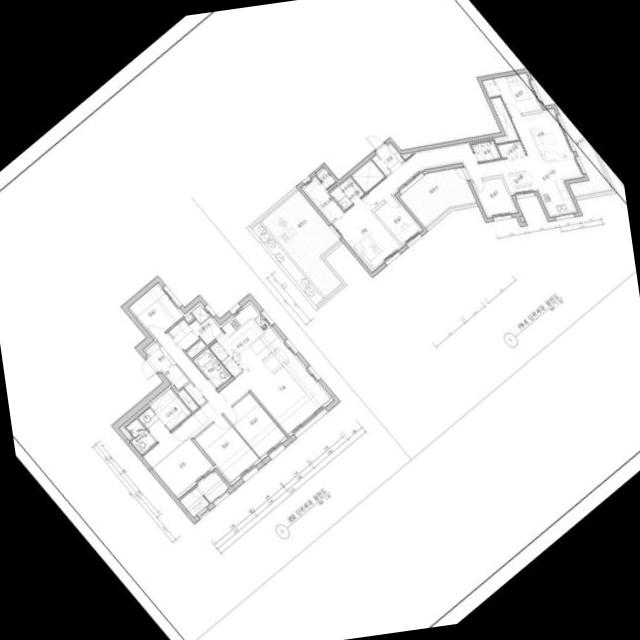background: (0, 0, 640, 640)
space_balconi: (197, 470, 229, 502)
space_bedroom: (332, 193, 401, 272), (143, 425, 215, 498), (194, 415, 261, 485), (224, 393, 288, 459), (128, 282, 185, 339), (482, 72, 542, 115), (374, 195, 422, 245), (471, 177, 518, 217)
space_dressroom: (301, 175, 343, 222), (149, 388, 191, 430)
space_front: (143, 339, 176, 373), (371, 142, 404, 175)
space_kitchen: (209, 300, 297, 388), (502, 160, 584, 217)
space_living_room: (369, 108, 575, 204), (156, 331, 333, 439)
space_multipurpose_space: (169, 316, 223, 350), (497, 140, 525, 157)
space_other: (490, 96, 519, 143), (351, 159, 385, 192), (179, 487, 209, 517), (171, 385, 198, 411), (166, 364, 189, 389), (184, 382, 206, 406), (186, 339, 206, 358), (191, 304, 210, 323), (401, 151, 414, 159), (184, 313, 194, 322)
space_outdoor_room: (316, 167, 336, 188)
space_toilet: (126, 407, 170, 454), (193, 348, 231, 388), (329, 175, 364, 210), (471, 140, 501, 162)
